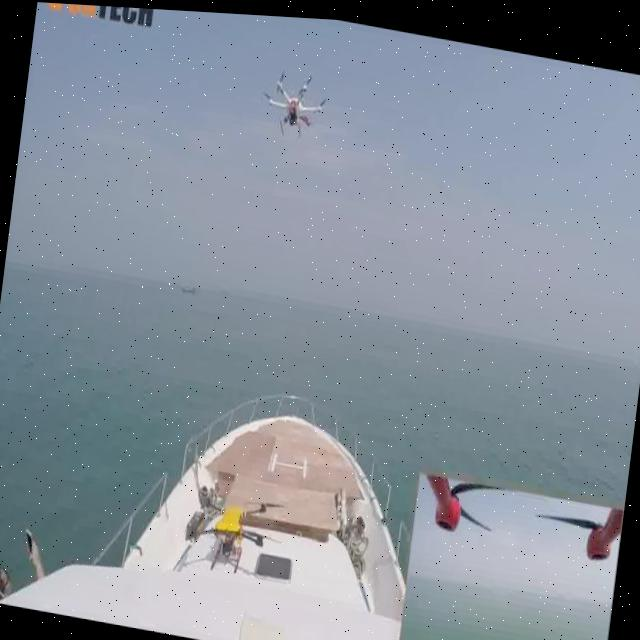drone: (258, 64, 326, 140)
